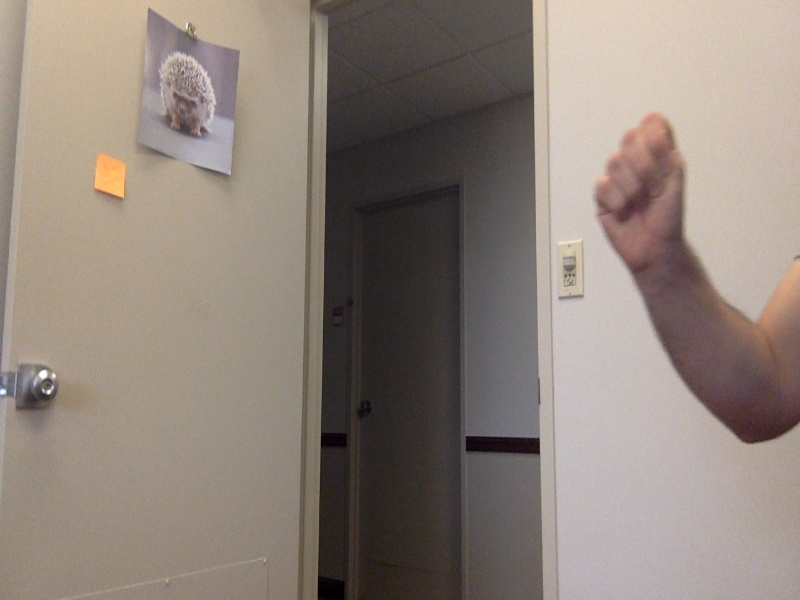0-hand: (591, 111, 697, 280)
